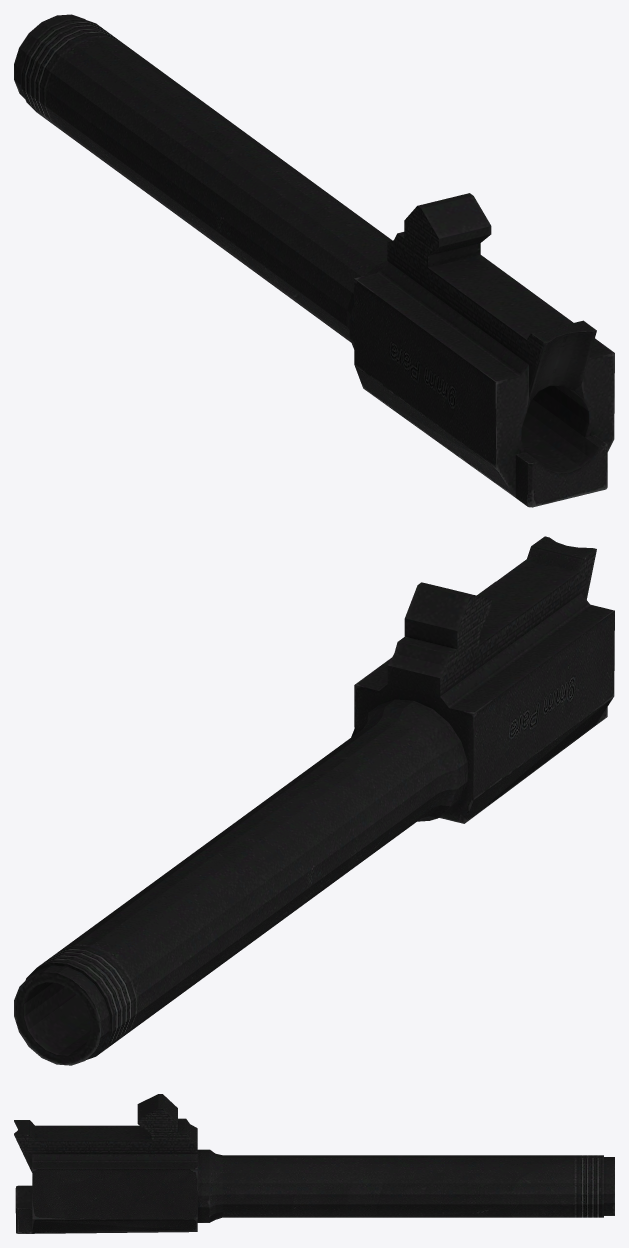
3 views of the same model, one above another, from view 1: azimuth 30°, elevation 25°; view 2: azimuth 150°, elevation 25°; view 3: azimuth 270°, elevation 25° (orthographic). The views are drawn at different scales.
Visible parts, largest first — view 1: TW_587de4282459771bca0ec90b_PZ_Import; view 2: TW_587de4282459771bca0ec90b_PZ_Import; view 3: TW_587de4282459771bca0ec90b_PZ_Import.
Part boxes in pixels (bbox=[...]): TW_587de4282459771bca0ec90b_PZ_Import: bbox=[14, 14, 614, 507]; TW_587de4282459771bca0ec90b_PZ_Import: bbox=[14, 536, 614, 1065]; TW_587de4282459771bca0ec90b_PZ_Import: bbox=[14, 1094, 614, 1233].
Bounding box in the file's own units: 0.00936 × 0.0697 × 0.0155.
1 material, 1 textured.
